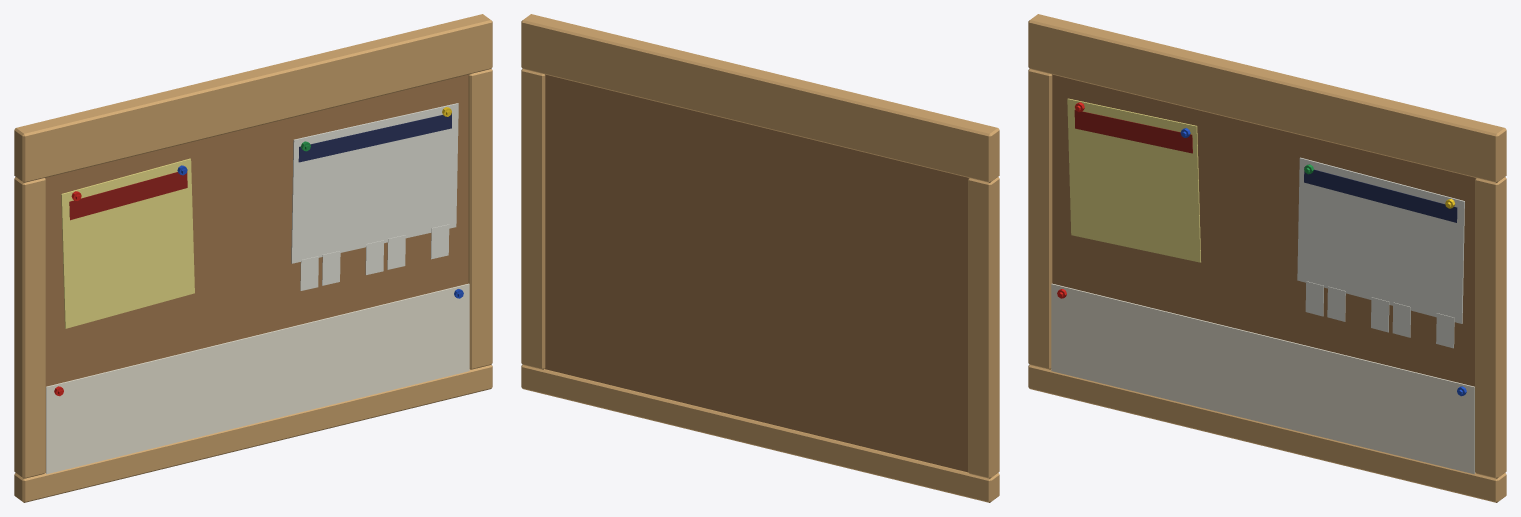
File: room.ad-board.glb
The picture shows the model from 3 angles, left to right: view 1: azimuth 30°, elevation 25°; view 2: azimuth 150°, elevation 25°; view 3: azimuth 330°, elevation 25°; orthographic projection.
Visible parts, largest first — view 1: cork, card, frame-top, leaflet-b, leaflet-a, frame-bottom, frame-side-1, frame-side1, leaflet-b-band, leaflet-a-band, strip4, strip0 (+3 smaller); view 2: cork, frame-top, frame-bottom, frame-side-1, frame-side1; view 3: cork, card, frame-top, leaflet-b, leaflet-a, frame-bottom, frame-side1, frame-side-1, leaflet-b-band, leaflet-a-band, strip6, strip1 (+3 smaller).
Part boxes in pixels (left/top/right/bottom): cork: left=45, top=74, right=468, bottom=386; card: left=45, top=283, right=469, bottom=474; frame-top: left=14, top=14, right=492, bottom=182; leaflet-b: left=291, top=103, right=458, bottom=263; leaflet-a: left=61, top=158, right=194, bottom=328; frame-bottom: left=14, top=365, right=492, bottom=502; frame-side-1: left=14, top=177, right=45, bottom=478; frame-side1: left=468, top=69, right=492, bottom=369; leaflet-b-band: left=298, top=113, right=451, bottom=162; leaflet-a-band: left=69, top=171, right=187, bottom=220; strip4: left=387, top=235, right=405, bottom=269; strip0: left=300, top=256, right=318, bottom=290; cork: left=545, top=74, right=968, bottom=472; frame-top: left=521, top=14, right=999, bottom=182; frame-bottom: left=521, top=365, right=999, bottom=502; frame-side-1: left=968, top=177, right=999, bottom=478; frame-side1: left=521, top=69, right=545, bottom=369; cork: left=1052, top=74, right=1475, bottom=386; card: left=1051, top=283, right=1475, bottom=474; frame-top: left=1028, top=14, right=1506, bottom=182; leaflet-b: left=1297, top=157, right=1464, bottom=323; leaflet-a: left=1067, top=98, right=1200, bottom=262; frame-bottom: left=1028, top=365, right=1506, bottom=502; frame-side1: left=1475, top=177, right=1506, bottom=478; frame-side-1: left=1028, top=69, right=1052, bottom=369; leaflet-b-band: left=1304, top=167, right=1457, bottom=222; leaflet-a-band: left=1074, top=110, right=1192, bottom=153; strip6: left=1436, top=313, right=1454, bottom=348; strip1: left=1327, top=286, right=1345, bottom=321.
Size of the model in its own units: 0.8 by 0.6 by 0.038.
